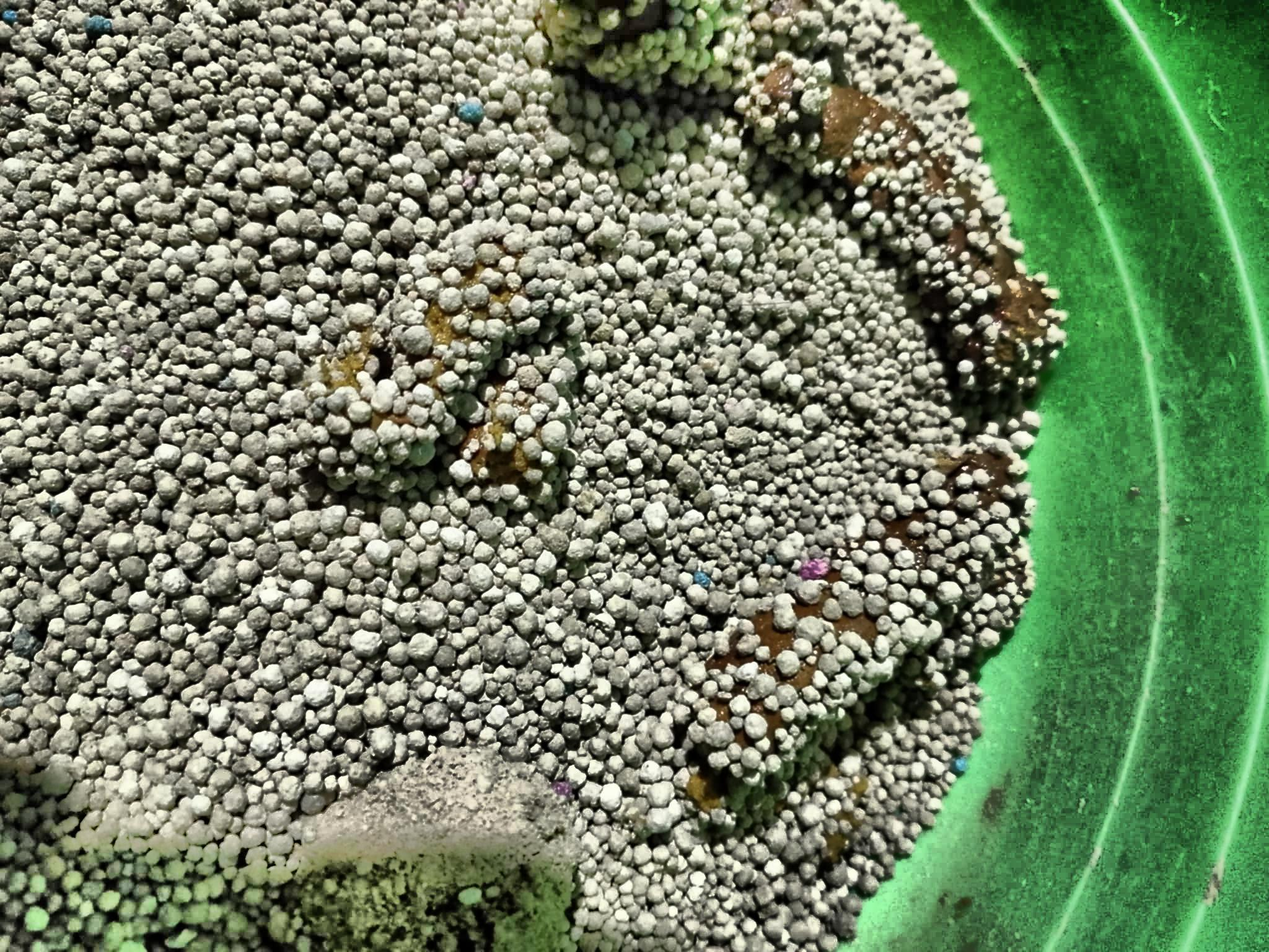poop: (689, 445, 1034, 824)
